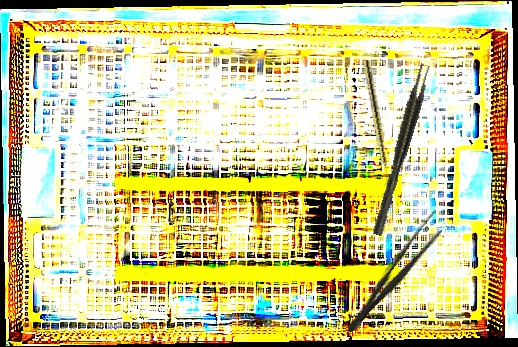Dressing Forceps: (339, 207, 452, 340)
Handpiece: (361, 59, 393, 188)
Tissue Forceps: (367, 62, 434, 237)
